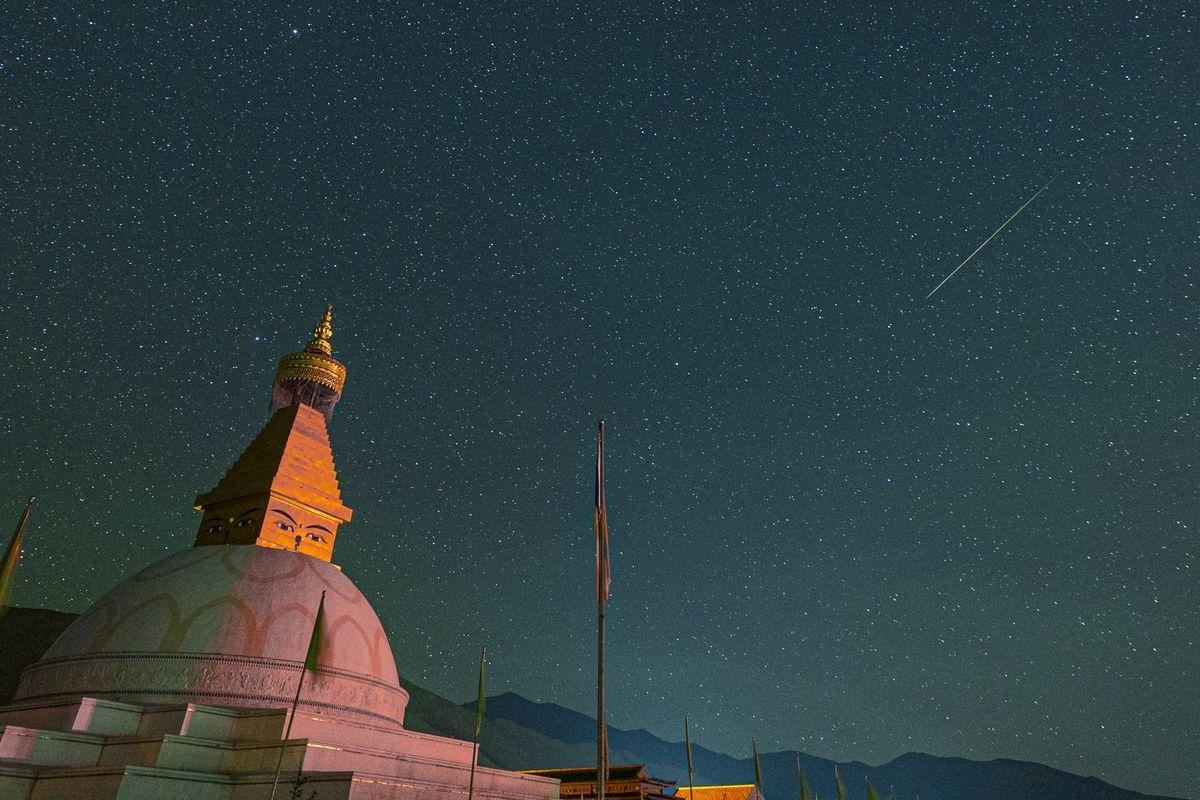meteorite: (902, 186, 1058, 309)
